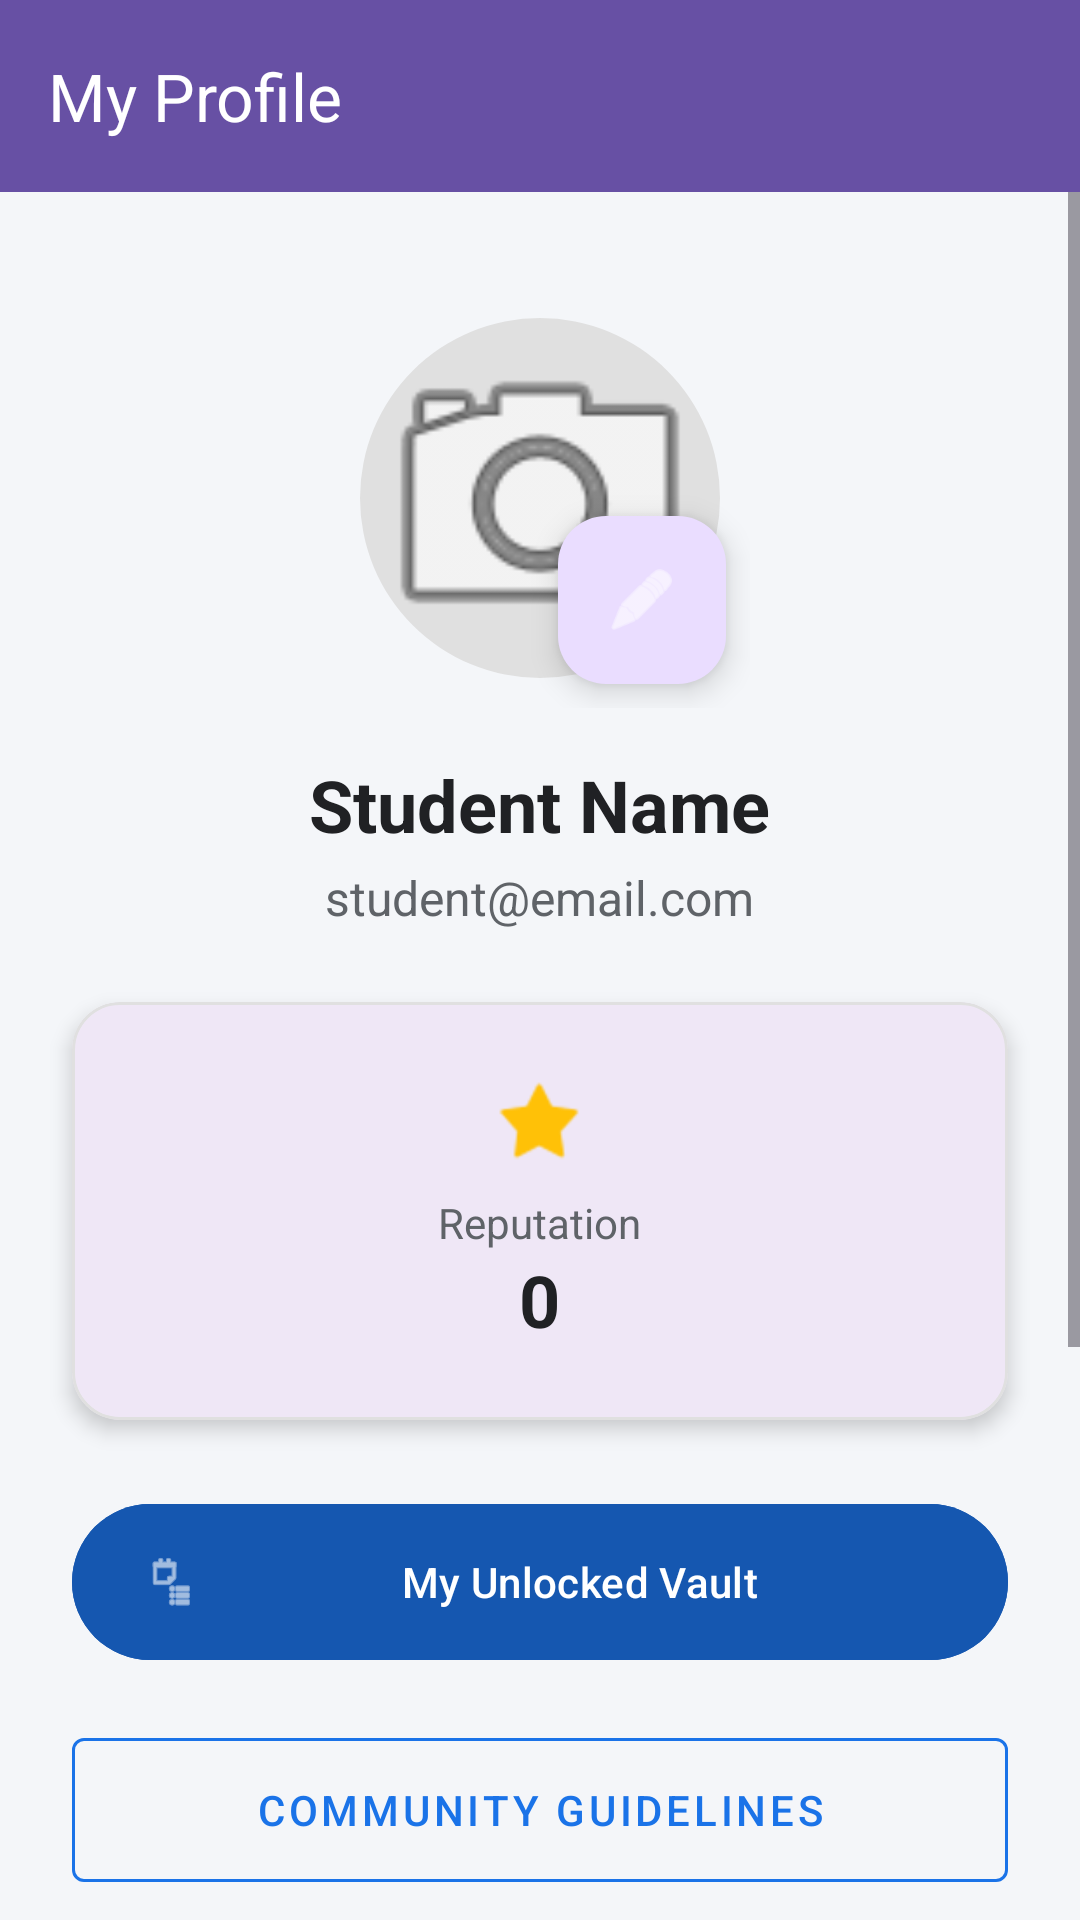

Icon click points for this 1080*1920 phone screenshot, format [x,y]:
star on: [539,1121]
